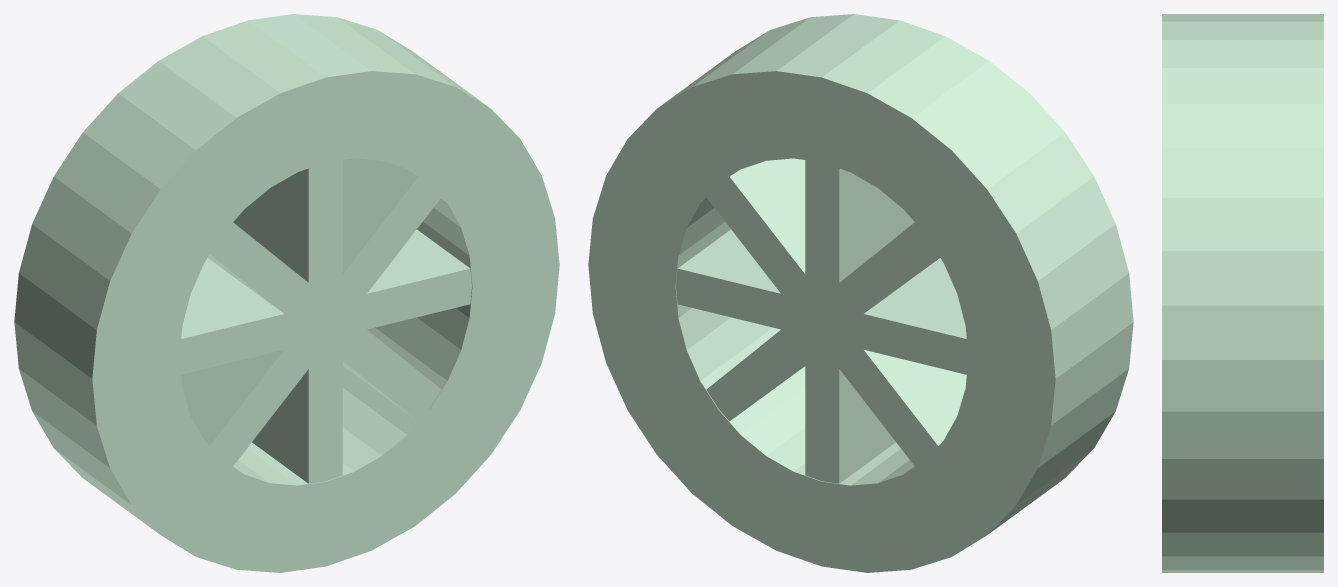
Rendered from wheel.glb.
The picture shows the model from 3 angles, left to right: view 1: azimuth 30°, elevation 25°; view 2: azimuth 150°, elevation 25°; view 3: azimuth 270°, elevation 25°; orthographic projection. The views are drawn at different scales.
Visible parts, largest first — view 1: Cube.001; view 2: Cube.001; view 3: Cube.001.
Boxes of the visible parts, box(x1,y1,x2,y2) form: Cube.001: box(14, 14, 559, 572); Cube.001: box(588, 14, 1133, 572); Cube.001: box(1162, 14, 1323, 572).
Bounding box in the file's own units: 2 × 2 × 0.5782.
